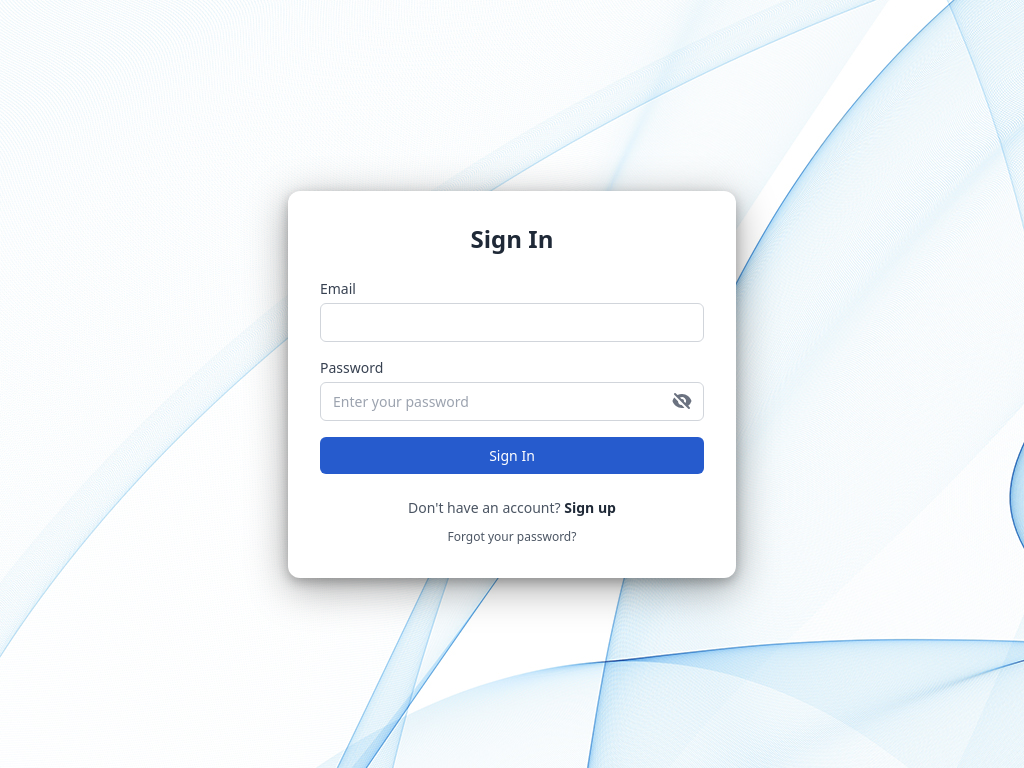
Test: Auth Component › should toggle to sign up form
The width and height of the screenshot is (1024, 768).
What coordinates should you click on to do the following:
click the button "Sign up"
I would click on:
 (590, 508)
Its box is [564, 498, 616, 518].
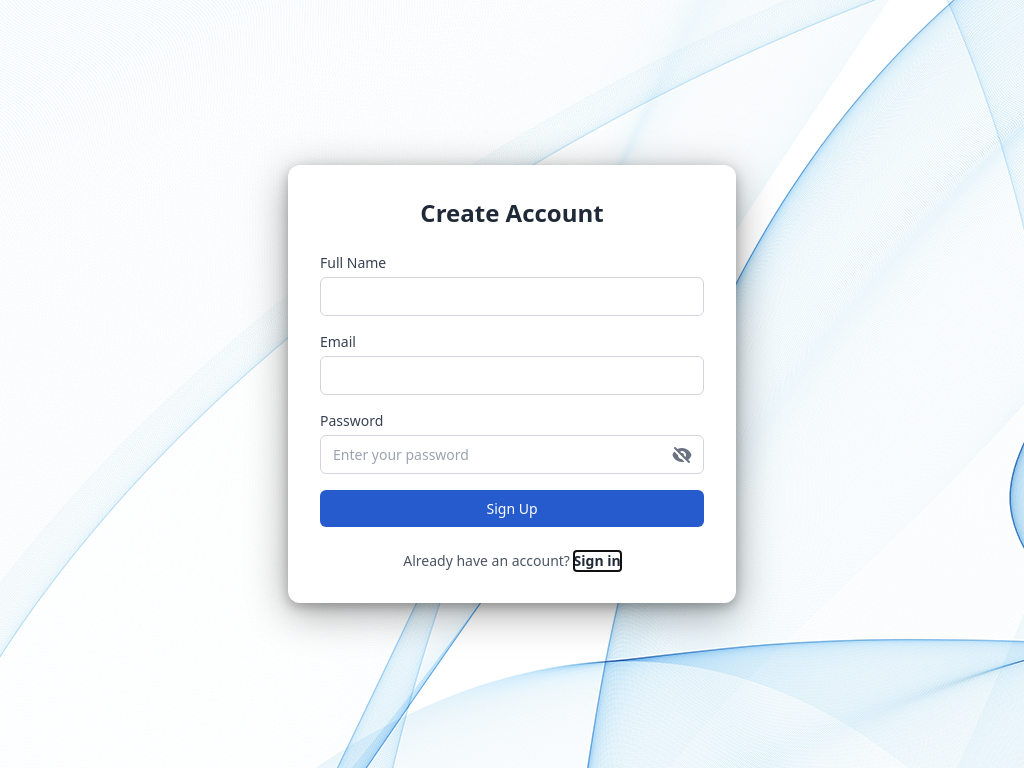
Now the heading "Create Account" is shown, box [420, 196, 604, 229]
Now the field labelled "Full Name" is shown, box [320, 277, 704, 316]
